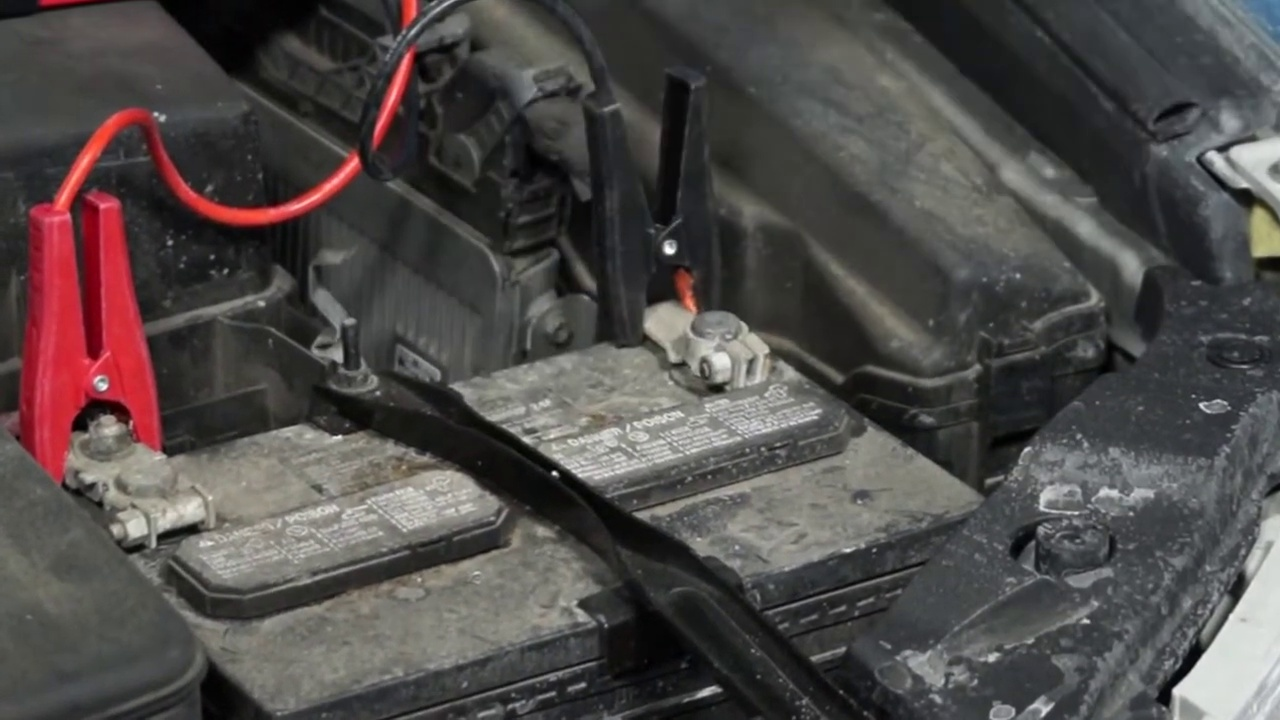battery: (38, 259, 957, 653)
neg_connected: (609, 272, 776, 410)
pos_connected: (7, 282, 221, 537)
